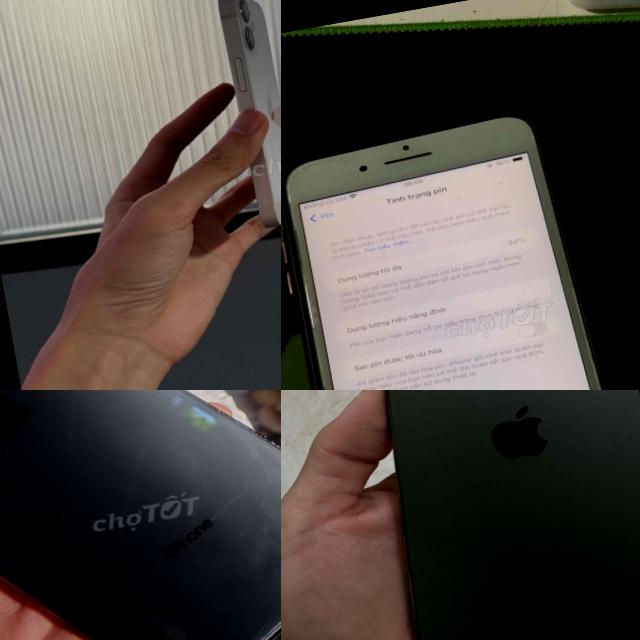gen_12_13: (342, 390, 640, 640), (195, 0, 281, 231)
gen_7_8: (281, 102, 640, 390)
gen_x_xs: (0, 390, 281, 640)
